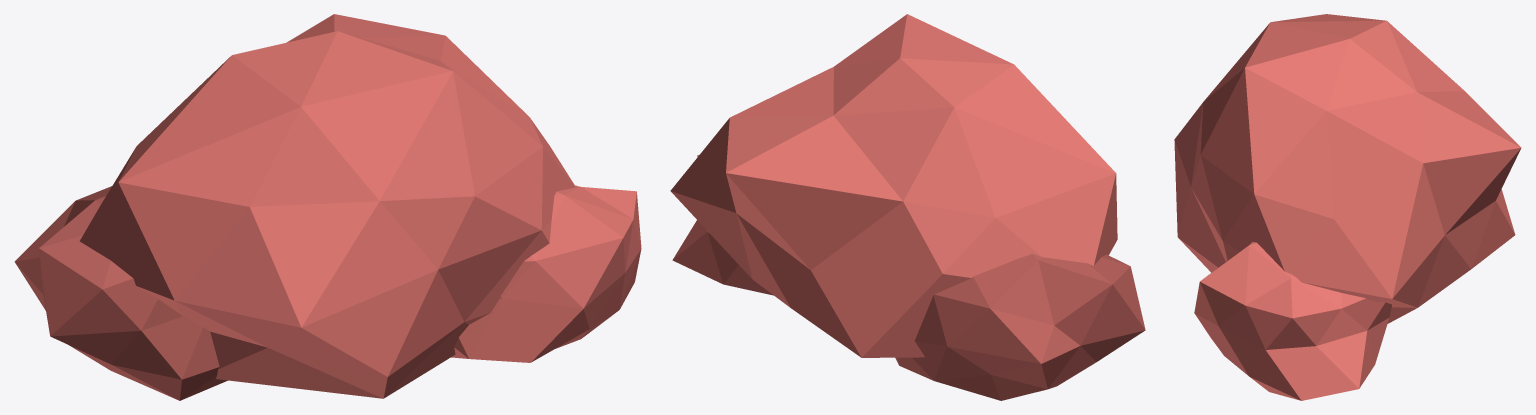
The model's file is t5_rock_full.glb.
The picture shows the model from 3 angles, left to right: view 1: azimuth 30°, elevation 25°; view 2: azimuth 150°, elevation 25°; view 3: azimuth 270°, elevation 25°; orthographic projection. The views are drawn at different scales.
Parts seen in each view (by area): view 1: CenterRock, LeftRock, RightRock; view 2: CenterRock, LeftRock, RightRock; view 3: CenterRock, RightRock.
Boxes of the visible parts, x1=… form: CenterRock: x1=80, y1=14, x2=575, y2=398; LeftRock: x1=14, y1=186, x2=227, y2=400; RightRock: x1=451, y1=185, x2=641, y2=362; CenterRock: x1=670, y1=14, x2=1117, y2=357; LeftRock: x1=895, y1=254, x2=1145, y2=400; RightRock: x1=672, y1=154, x2=773, y2=295; CenterRock: x1=1174, y1=14, x2=1521, y2=323; RightRock: x1=1194, y1=242, x2=1391, y2=400.
Bounding box in the file's own units: 1.55 × 0.8681 × 0.9954.
